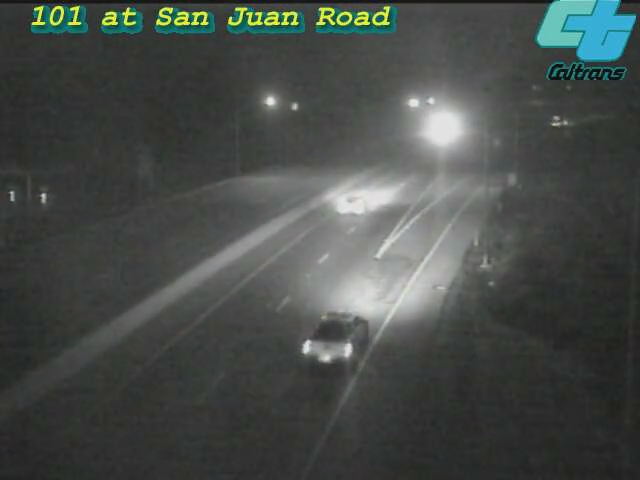vehicle: (288, 278, 398, 388), (313, 164, 393, 244), (416, 105, 466, 155), (537, 95, 587, 145)
